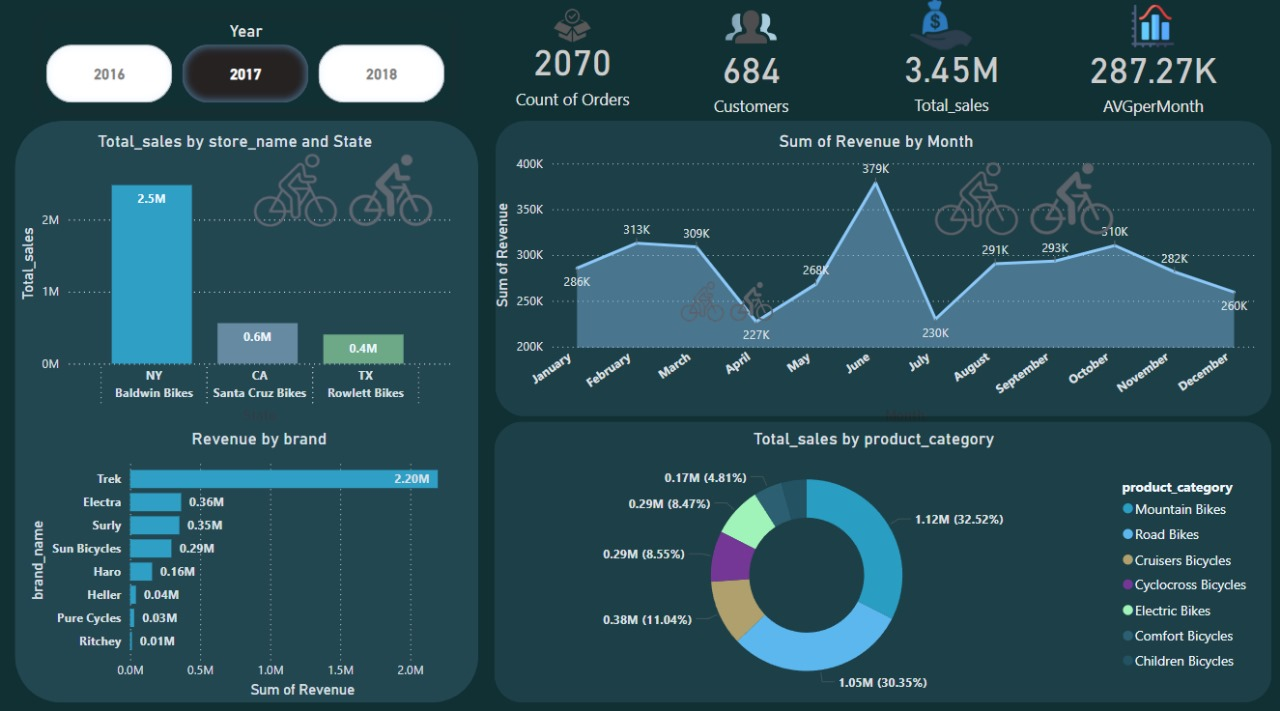

What the dashboard file says about the page in this screenshot:
{"tool":"powerbi","page":{"name":"Page 1","canvas":[1280,720],"ordinal":0},"visuals":[{"type":"barChart","title":" Revenue by brand ","fields":{"Y":["Sum(Query1.Revenue)"],"Category":["Query1.brand_name"]},"box":[25.3,433.1,469.3,273.9],"z":0},{"type":"advancedSlicerVisual","fields":{"Values":["Query1.Order_date.Variation.Date Hierarchy.Year"]},"box":[42.2,25.3,409,88.1],"z":1000},{"type":"areaChart","fields":{"Category":["Query1.Order_date.Variation.Date Hierarchy.Month"],"Y":["Sum(Query1.Revenue)"]},"box":[489.8,135.1,773.3,298],"z":2000},{"type":"card","fields":{"Values":["Query1.AVGperMonth"]},"box":[1050.8,32.6,205.1,100.1],"z":4000},{"type":"card","fields":{"Values":["Query1.Total_sales"]},"box":[851.7,31.4,200.3,100.1],"z":5000},{"type":"card","fields":{"Values":["Count(Query1.Customer_name)"]},"box":[651.5,32.6,200.3,100.1],"z":6000},{"type":"donutChart","fields":{"Category":["Query1.product_category"],"Y":["Query1.Total_sales"]},"box":[487.4,433.1,773.3,273.9],"z":7000},{"type":"card","fields":{"Values":["CountNonNull(Query1.Order_id)"]},"box":[472.9,25.3,200.3,100.1],"z":8000},{"type":"image","box":[924.1,108.6,200.3,189.4],"z":9000},{"type":"image","box":[243.7,100.1,200.3,189.4],"z":10000},{"type":"image","box":[673.2,237.7,108.6,137.5],"z":11000},{"type":"shape","box":[14.9,124.6,463.3,581.2],"z":12000},{"type":"shape","box":[494.5,124.6,776.3,295.3],"z":13000},{"type":"clusteredColumnChart","fields":{"Category":["Query1.store_name","Query1.State"],"Y":["Query1.Total_sales"]},"box":[25.7,135.5,440.3,298.1],"z":13500},{"type":"shape","box":[494.6,425.9,776.9,281.1],"z":14000},{"type":"image","box":[520,0,105,63.9],"z":15000},{"type":"image","box":[700.9,0,101.3,63.9],"z":16000},{"type":"image","box":[892.8,0,96.5,63.9],"z":17000},{"type":"image","box":[1105.1,4.8,95.3,51.9],"z":18000}]}

Visuals, with their boxes in screenshot pixels (x1, y1, x2, y2), scaled from the page's 1280x720 canvas onto the 1280x711 screenshot:
" Revenue by brand " barChart: bbox=(25, 428, 495, 698)
advancedSlicerVisual - Query1.Order_date.Variation.Date Hierarchy.Year: bbox=(42, 25, 451, 112)
areaChart - Query1.Order_date.Variation.Date Hierarchy.Month x Sum(Query1.Revenue): bbox=(490, 133, 1263, 428)
card - Query1.AVGperMonth: bbox=(1051, 32, 1256, 131)
card - Query1.Total_sales: bbox=(852, 31, 1052, 130)
card - Count(Query1.Customer_name): bbox=(652, 32, 852, 131)
donutChart - Query1.product_category x Query1.Total_sales: bbox=(487, 428, 1261, 698)
card - CountNonNull(Query1.Order_id): bbox=(473, 25, 673, 124)
image: bbox=(924, 107, 1124, 294)
image: bbox=(244, 99, 444, 286)
image: bbox=(673, 235, 782, 371)
shape: bbox=(15, 123, 478, 697)
shape: bbox=(494, 123, 1271, 415)
clusteredColumnChart - Query1.store_name x Query1.State: bbox=(26, 134, 466, 428)
shape: bbox=(495, 421, 1272, 698)
image: bbox=(520, 0, 625, 63)
image: bbox=(701, 0, 802, 63)
image: bbox=(893, 0, 989, 63)
image: bbox=(1105, 5, 1200, 56)
